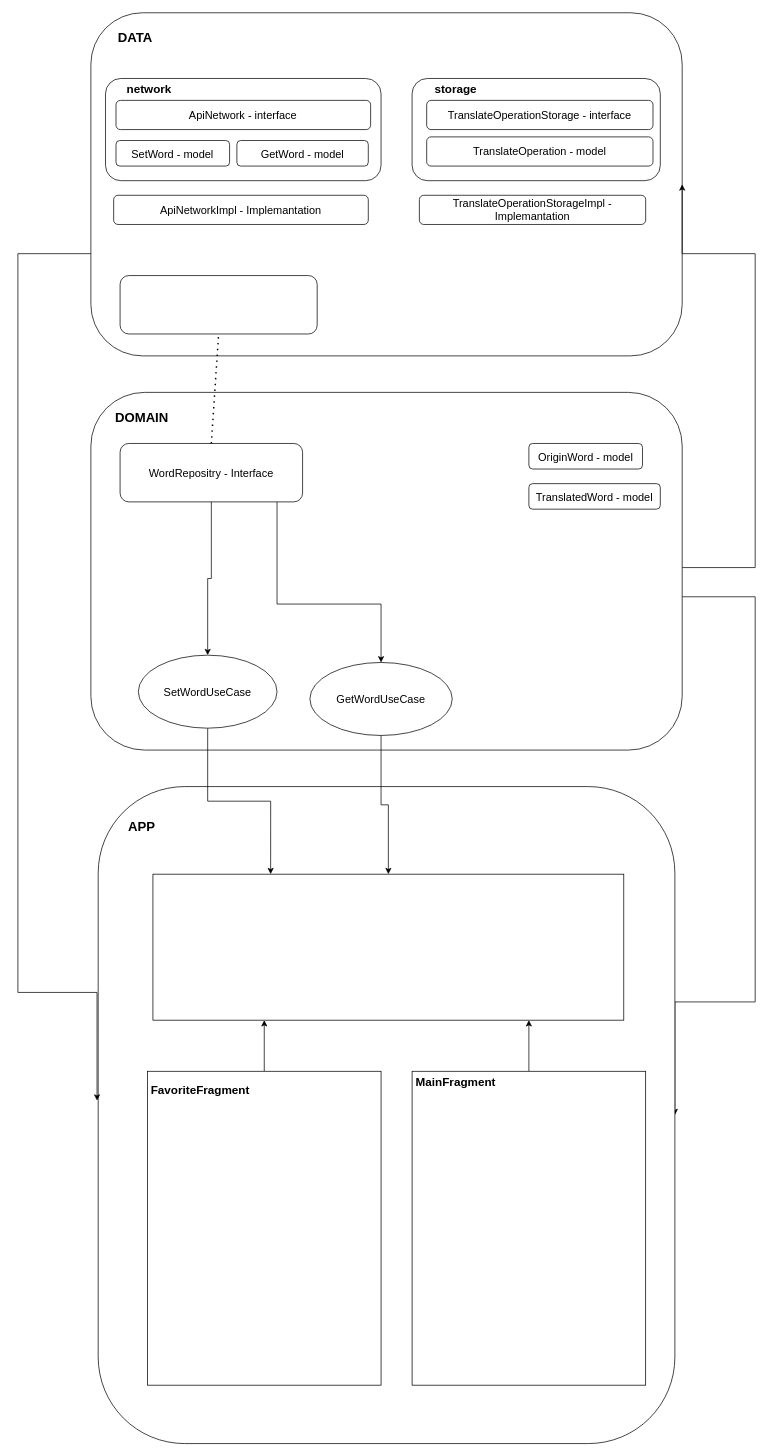
Some shapes in this 774 by 1456 pixel diagram are drawn without their labels. Here are the shapes that lost their labels. From the top down, the centre of each, then its label:
At [218,304]: "WordRepositry Impl -Implementation".
At [388,946]: "MVVM".
